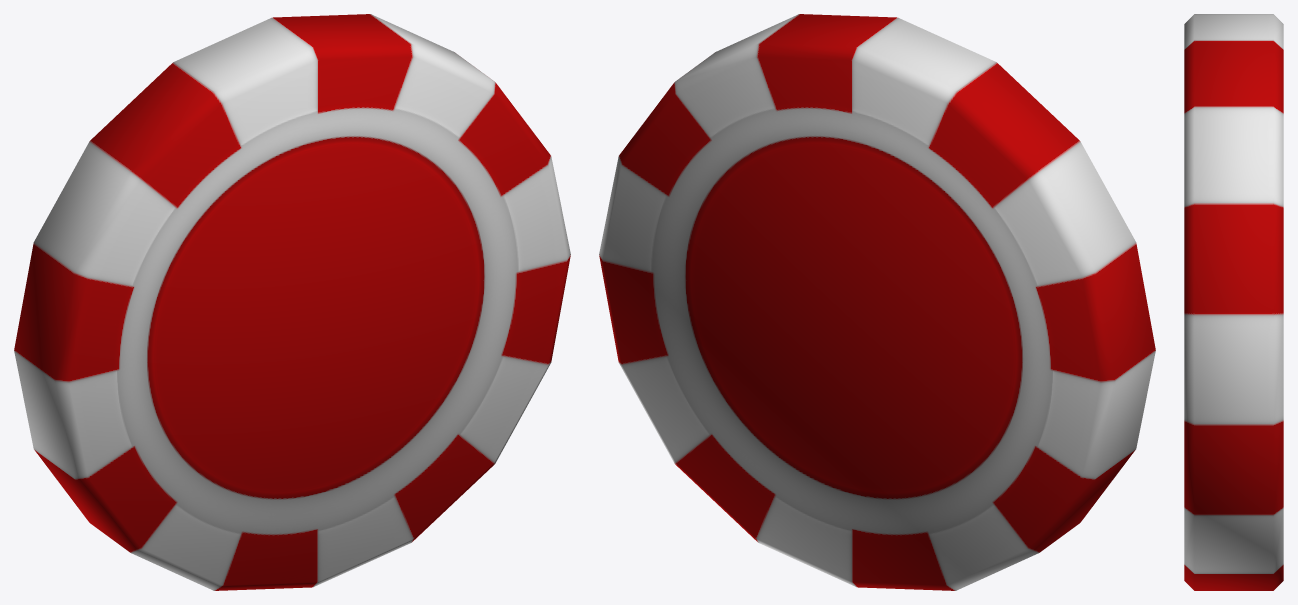
File: CasinoChip_Red.FBX
3 renders of one model, left to right at view 1: azimuth 30°, elevation 25°; view 2: azimuth 150°, elevation 25°; view 3: azimuth 270°, elevation 25°, orthographic. The views are drawn at different scales.
Parts seen in each view (by area): view 1: CasinoChip_Red; view 2: CasinoChip_Red; view 3: CasinoChip_Red.
Boxes of the visible parts, x1=… form: CasinoChip_Red: x1=14, y1=14, x2=570, y2=590; CasinoChip_Red: x1=599, y1=14, x2=1155, y2=590; CasinoChip_Red: x1=1184, y1=14, x2=1283, y2=590.
Bounding box in the file's own units: 70 × 70 × 12.
1 material, 1 textured.
